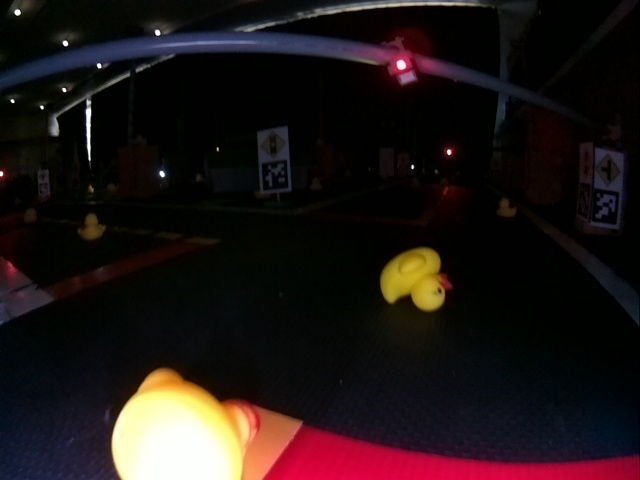Duckie: (112, 368, 261, 479), (378, 248, 452, 309), (77, 213, 107, 240), (498, 198, 516, 218)
Intersection sign: (597, 153, 623, 185)
QR code: (593, 189, 620, 224), (262, 160, 287, 190), (578, 182, 590, 219)
Signal sign: (260, 130, 287, 158), (579, 146, 592, 177)
Traffic light: (388, 41, 419, 84)
